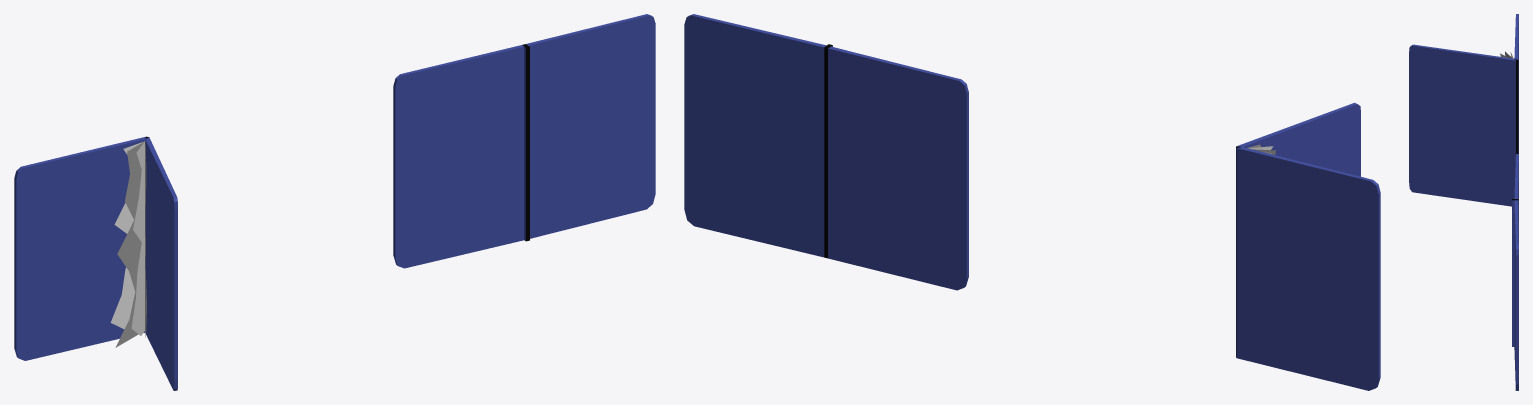
Rendered from employee_handbook.fbx.
The picture shows the model from 3 angles, left to right: view 1: azimuth 30°, elevation 25°; view 2: azimuth 150°, elevation 25°; view 3: azimuth 270°, elevation 25°; orthographic projection. The views are drawn at different scales.
Parts seen in each view (by area): view 1: Handbook, HandbookFolded, Paper.001, Plane.003, Plane.002; view 2: Handbook, HandbookFolded; view 3: HandbookFolded, Handbook.
Part boxes in pixels (bbox=[...]): Handbook: bbox=[393, 14, 655, 268]; HandbookFolded: bbox=[14, 136, 177, 390]; Paper.001: bbox=[115, 141, 144, 347]; Plane.003: bbox=[131, 142, 144, 335]; Plane.002: bbox=[110, 141, 144, 329]; Handbook: bbox=[684, 14, 968, 290]; HandbookFolded: bbox=[1236, 102, 1380, 390]; HandbookFolded: bbox=[1409, 14, 1518, 206]; Handbook: bbox=[1512, 154, 1518, 390].
Bounding box in the file's own units: 205 × 59.4 × 40.4.
